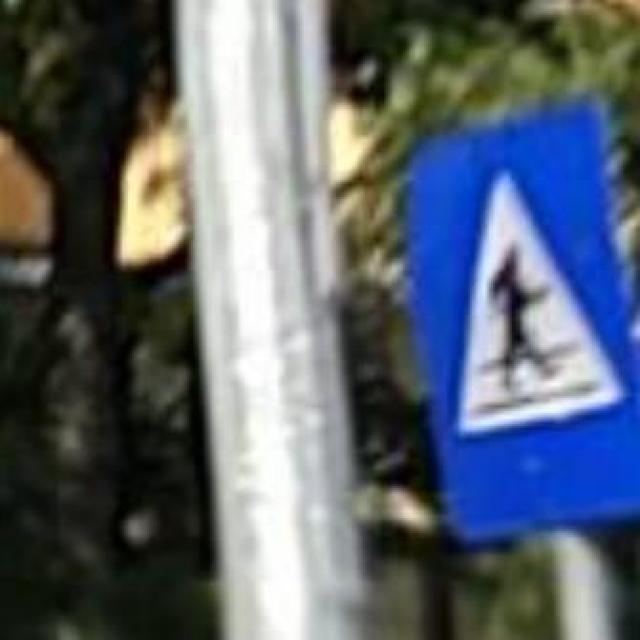traffic sign: (401, 103, 640, 546)
